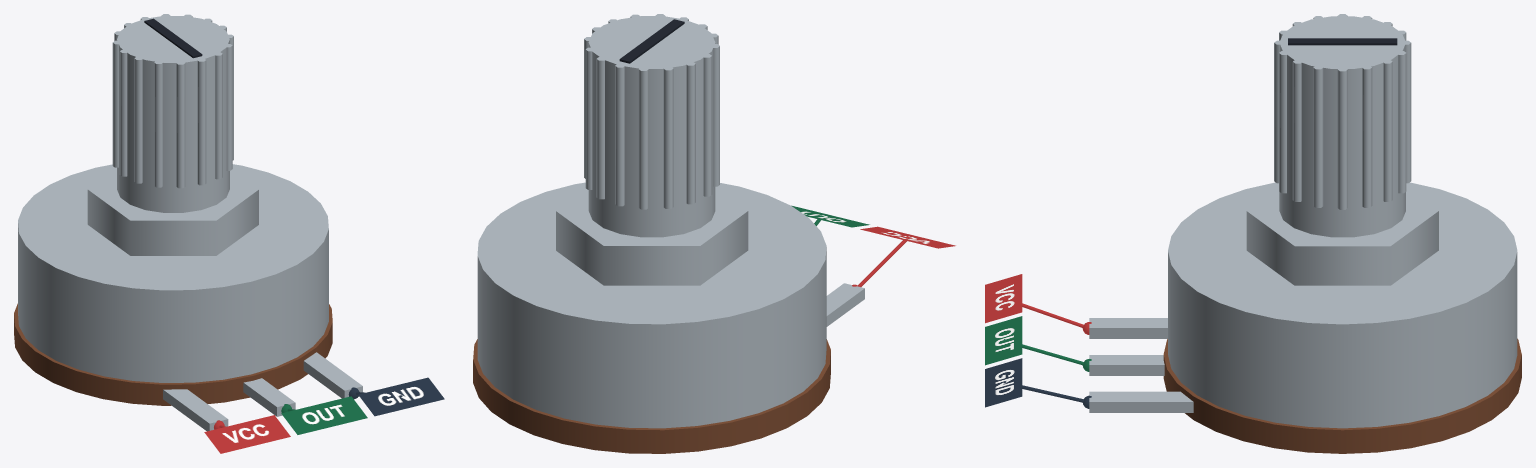
The model's file is pot.glb.
The picture shows the model from 3 angles, left to right: view 1: azimuth 30°, elevation 25°; view 2: azimuth 150°, elevation 25°; view 3: azimuth 270°, elevation 25°; orthographic projection. The views are drawn at different scales.
Parts seen in each view (by area): view 1: pot, VCC, GND, OUT; view 2: pot, VCC, OUT; view 3: pot, OUT, VCC, GND, Terminal labels.
Boxes of the visible parts, x1=… form: pot: x1=14, y1=14, x2=362, y2=431; VCC: x1=204, y1=415, x2=290, y2=453; GND: x1=358, y1=377, x2=444, y2=416; OUT: x1=281, y1=396, x2=367, y2=434; pot: x1=473, y1=14, x2=864, y2=453; VCC: x1=860, y1=226, x2=955, y2=248; OUT: x1=791, y1=205, x2=869, y2=227; pot: x1=1089, y1=14, x2=1521, y2=453; OUT: x1=985, y1=316, x2=1022, y2=365; VCC: x1=985, y1=274, x2=1022, y2=323; GND: x1=985, y1=358, x2=1022, y2=407; Terminal labels: x1=1003, y1=297, x2=1091, y2=408.
Bounding box in the file's own units: 0.0164 × 0.0171 × 0.0246.
9 materials, 3 textured.
